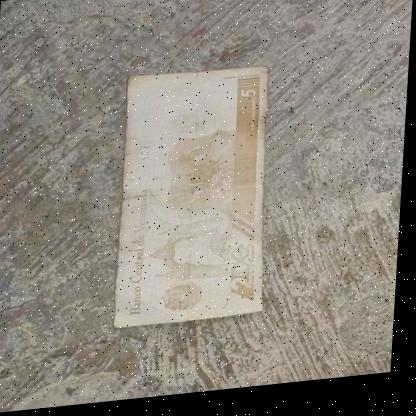five-back-vef: (117, 66, 279, 333)
